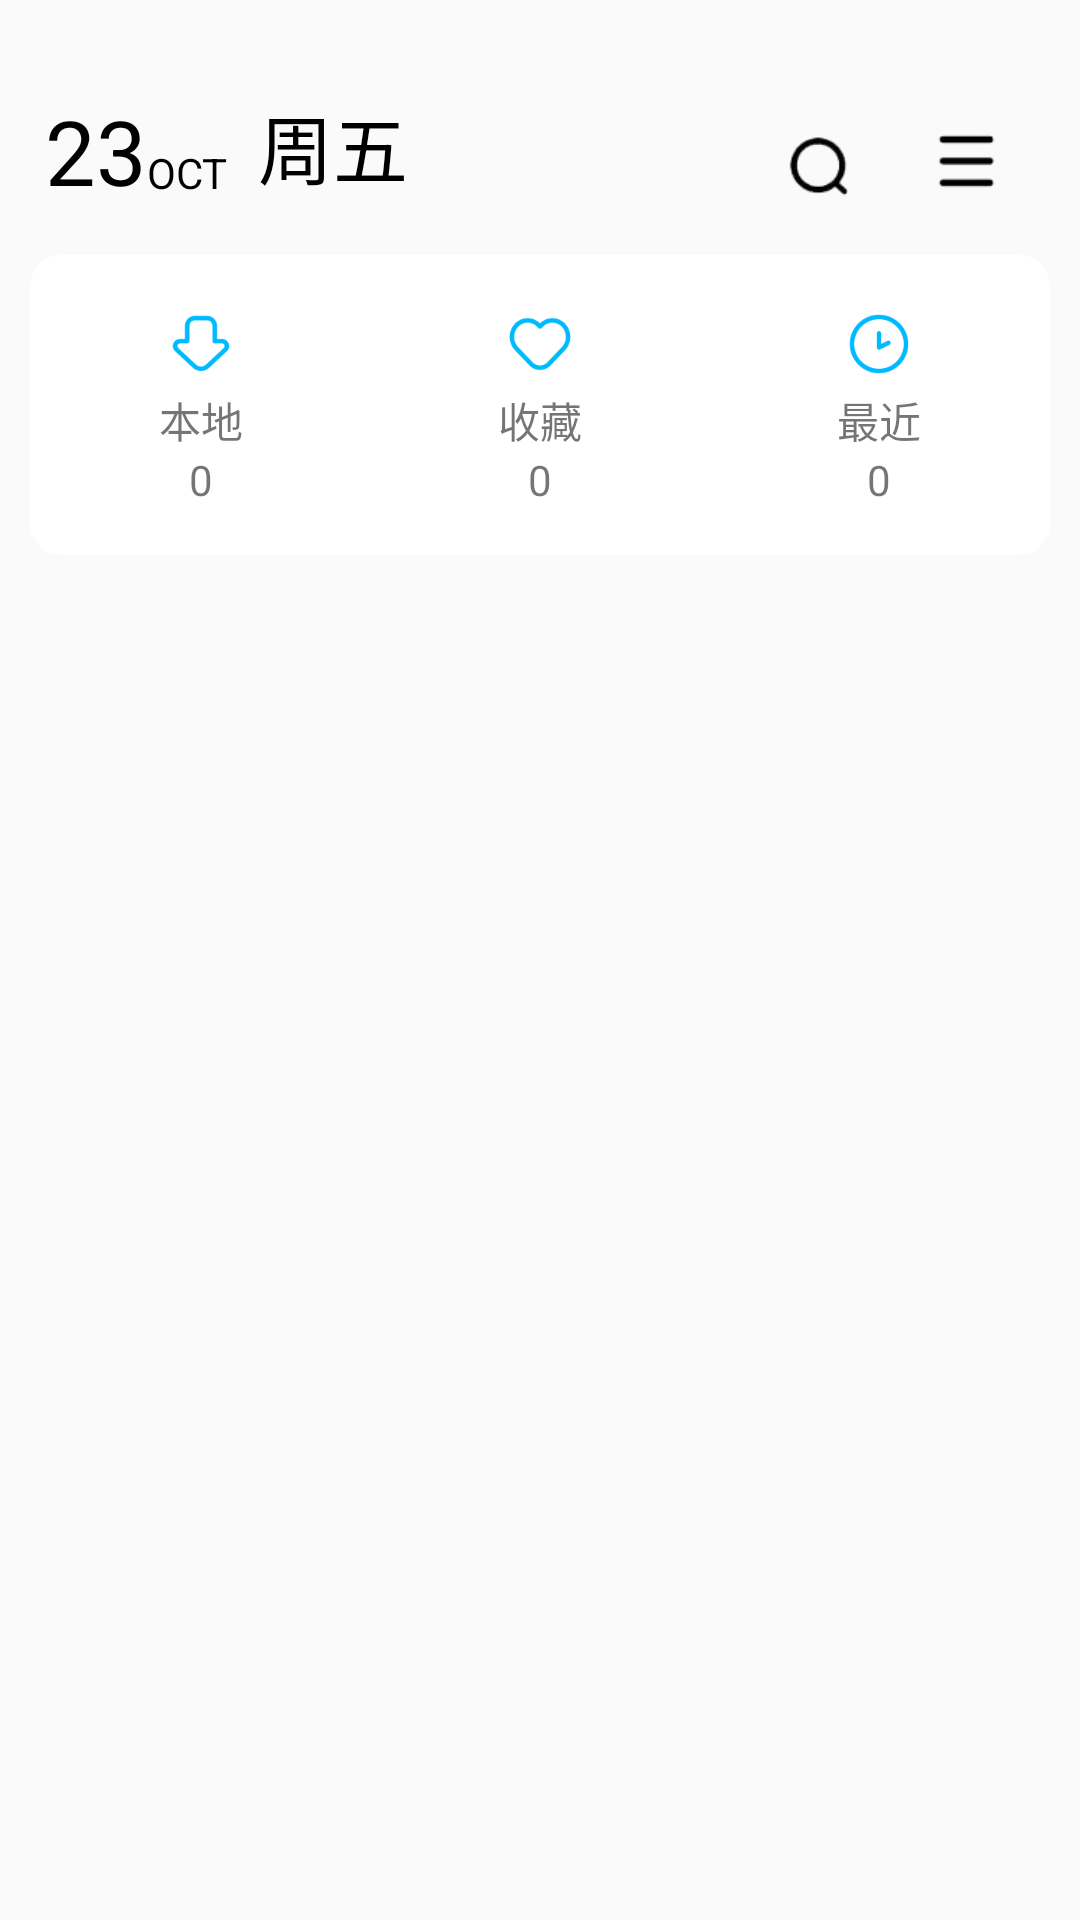

Point at icon controls on the screen. Image size 1080x1920, points as [x,y].
appset: [966,161]
search: [819,166]
